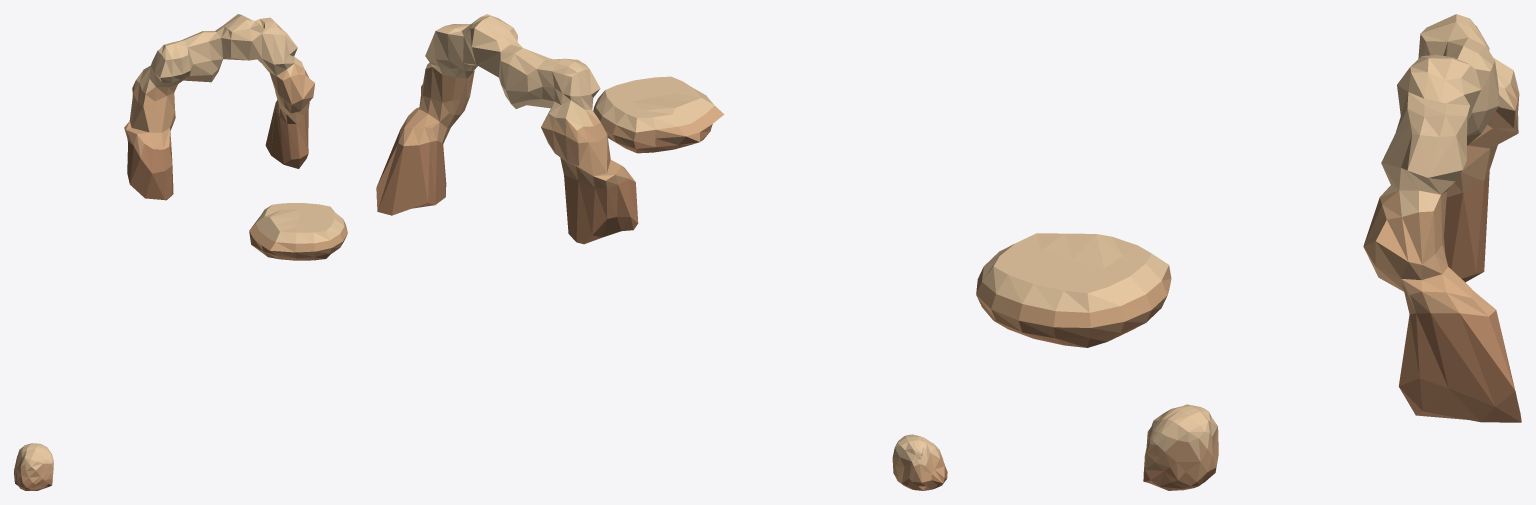
Rendered from canyon-2-0.glb.
3 renders of one model, left to right at view 1: azimuth 30°, elevation 25°; view 2: azimuth 150°, elevation 25°; view 3: azimuth 270°, elevation 25°, orthographic. The views are drawn at different scales.
Visible parts, largest first — view 1: canyon-2-0; view 2: canyon-2-0; view 3: canyon-2-0.
Part boxes in pixels (x1,y1,x2,y2): canyon-2-0: (14, 14, 347, 490); canyon-2-0: (376, 14, 947, 490); canyon-2-0: (976, 14, 1521, 490).
Bounding box in the file's own units: 76.54 × 71.07 × 50.86.
